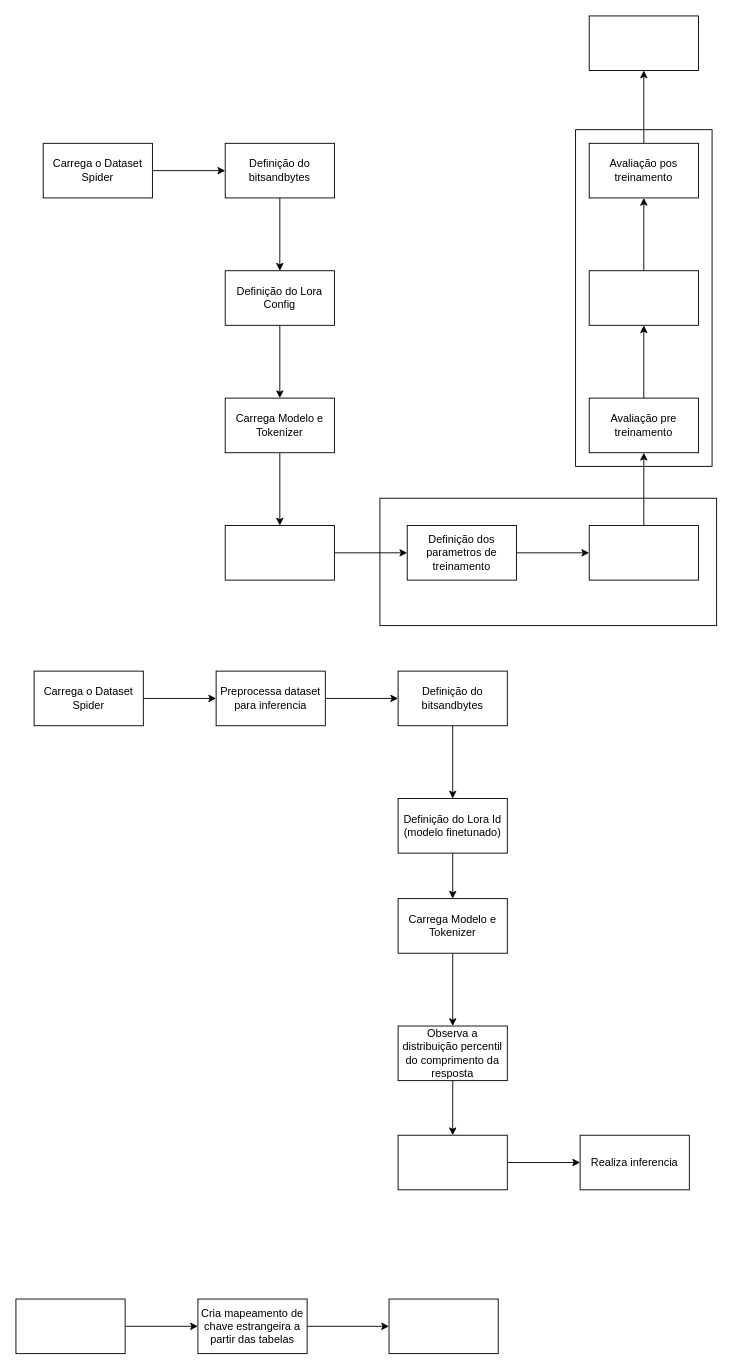
Some shapes in this 733 by 1370 pixel diagram are drawn without their labels. Here are the shapes that lost their labels. From the top down, the centre of each, then its label:
At (x=643, y=43): "Salva no huggingface".
At (x=643, y=297): "Treinamento".
At (x=279, y=552): "Criação do DialogueDataCollator".
At (x=643, y=552): "Definição do Trainer".
At (x=452, y=1162): "Define Pipeline".
At (x=70, y=1326): "Define parametros para avaliação".
At (x=443, y=1326): "Inicia avaliação".
